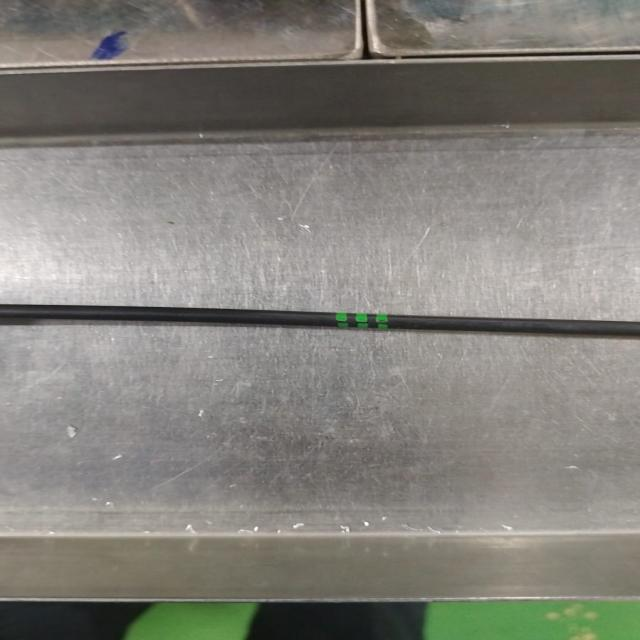green: (335, 312, 390, 330)
